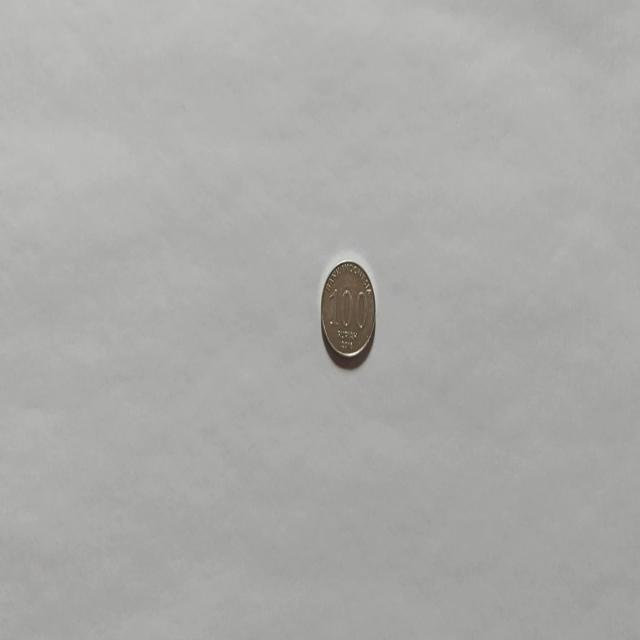seratus rupiah: (319, 258, 376, 362)
